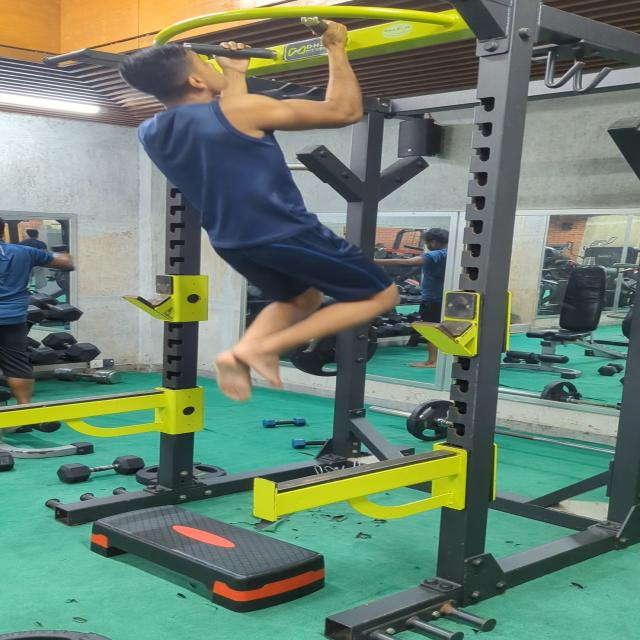Normal_PullUps: (109, 15, 405, 402)
